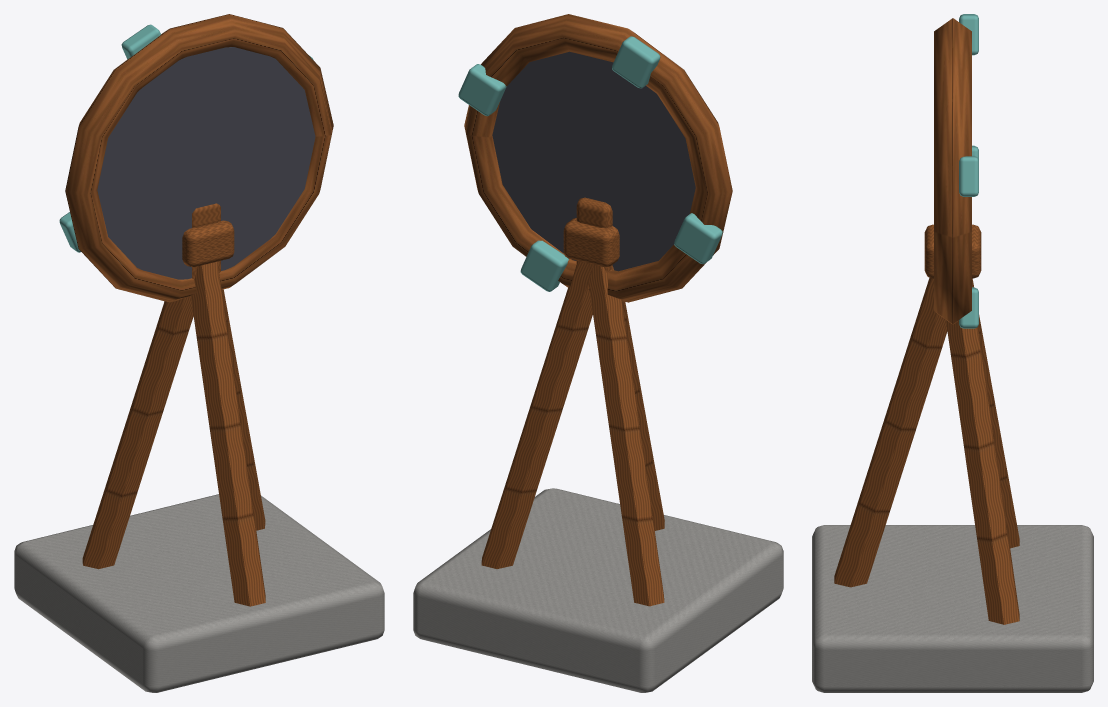
Rendered from jungle-temple-and-stone-city-obsidian-mirror-stand-41f7e905__36132.glb.
The picture shows the model from 3 angles, left to right: view 1: azimuth 30°, elevation 25°; view 2: azimuth 150°, elevation 25°; view 3: azimuth 270°, elevation 25°; orthographic projection.
Parts seen in each view (by area): view 1: obsidian-mirror-stand, mirror-obsidian/obsidian, mirror-obsidian/timber, mirror-obsidian/jade; view 2: obsidian-mirror-stand, mirror-obsidian/obsidian, mirror-obsidian/timber, mirror-obsidian/jade; view 3: obsidian-mirror-stand, mirror-obsidian/timber, mirror-obsidian/jade.
Part boxes in pixels (x1=…): obsidian-mirror-stand: x1=14, y1=220, x2=384, y2=692; mirror-obsidian/obsidian: x1=97, y1=47, x2=315, y2=279; mirror-obsidian/timber: x1=65, y1=14, x2=333, y2=302; mirror-obsidian/jade: x1=59, y1=24, x2=313, y2=252; obsidian-mirror-stand: x1=413, y1=218, x2=783, y2=692; mirror-obsidian/obsidian: x1=492, y1=51, x2=695, y2=271; mirror-obsidian/timber: x1=464, y1=14, x2=732, y2=302; mirror-obsidian/jade: x1=458, y1=36, x2=722, y2=291; obsidian-mirror-stand: x1=812, y1=224, x2=1093, y2=692; mirror-obsidian/timber: x1=934, y1=18, x2=971, y2=324; mirror-obsidian/jade: x1=959, y1=14, x2=978, y2=328.
Bounding box in the file's own units: 0.78 × 1.66 × 0.7.
4 materials, 2 textured.
